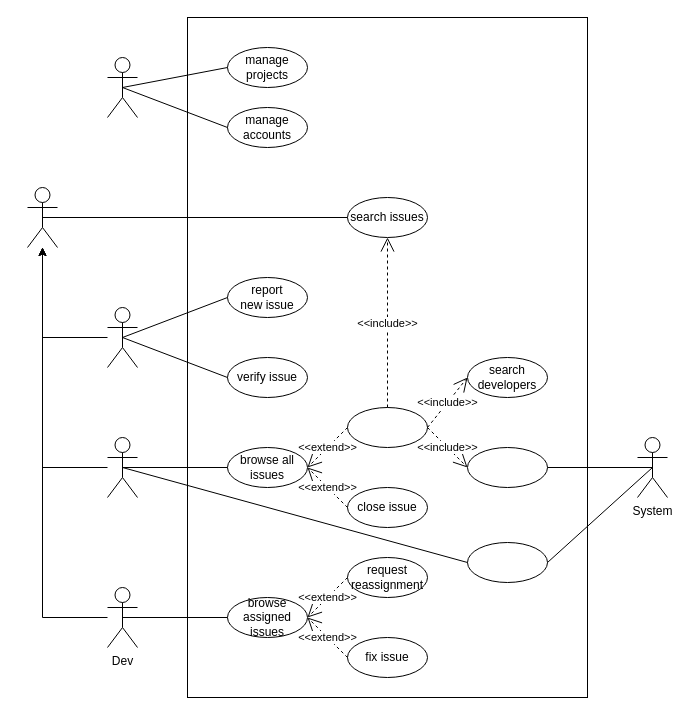
This 690x715 diagram has some shape labels left out. Each missing label, with the centre of its shape:
"Admin" belongs at (x=122, y=87).
"analyze issue statistics" belongs at (x=507, y=562).
"assign issue" belongs at (x=387, y=427).
"PL" belongs at (x=122, y=467).
"recommend" belongs at (x=507, y=467).
"Test" belongs at (x=122, y=337).
"{abstract} User" belongs at (x=42, y=217).
